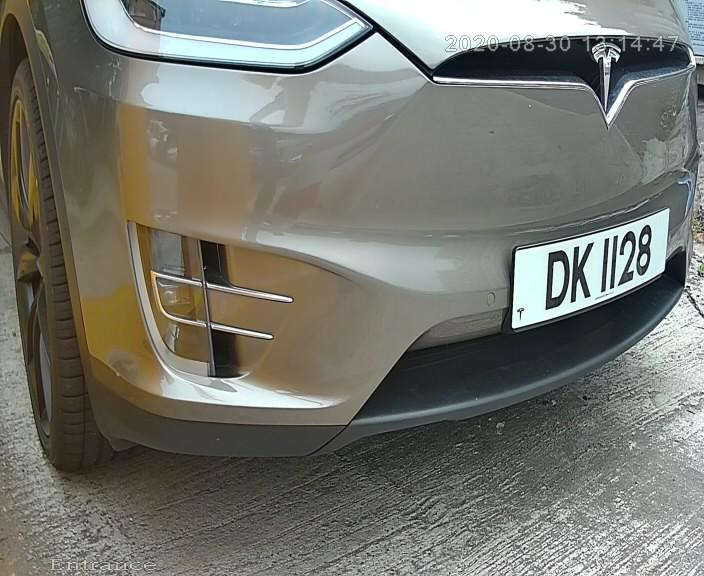License Plate: (500, 209, 670, 330)
